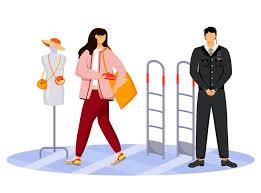shoplifting: (83, 57, 145, 113)
